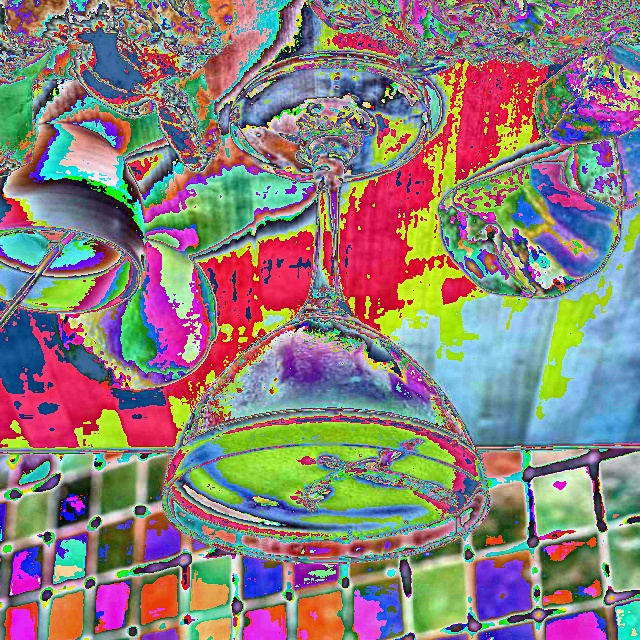background: (307, 0, 639, 301), (170, 229, 483, 543), (0, 0, 238, 180), (56, 155, 218, 392), (0, 50, 123, 279)
